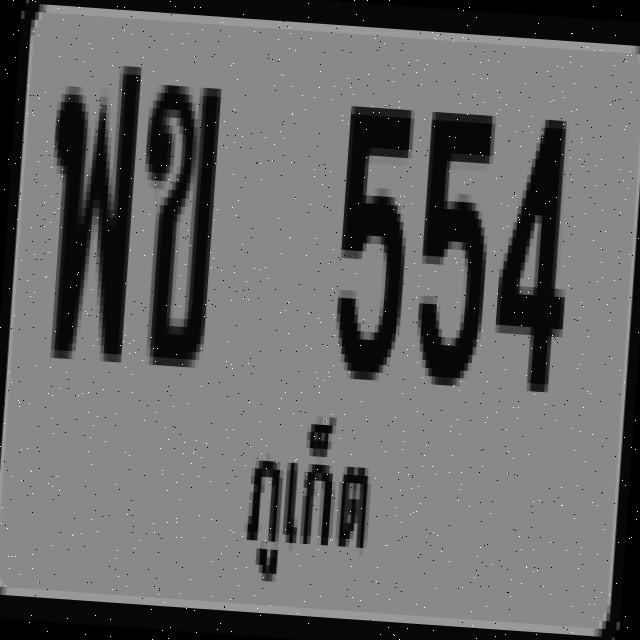11KhorKhai: (121, 46, 236, 418)
4: (486, 67, 592, 456)
40ForFun: (23, 30, 154, 388)
5: (401, 79, 508, 467), (314, 61, 424, 416)
Phuket: (220, 403, 396, 608)
